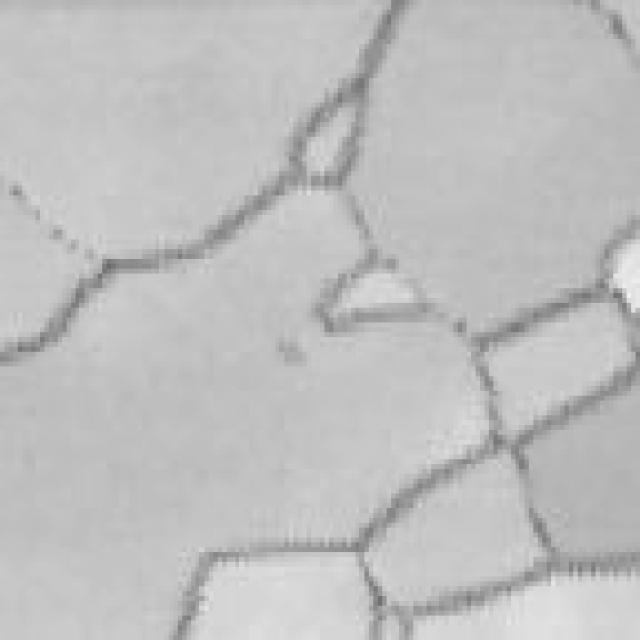good_void: (269, 336, 311, 366)
